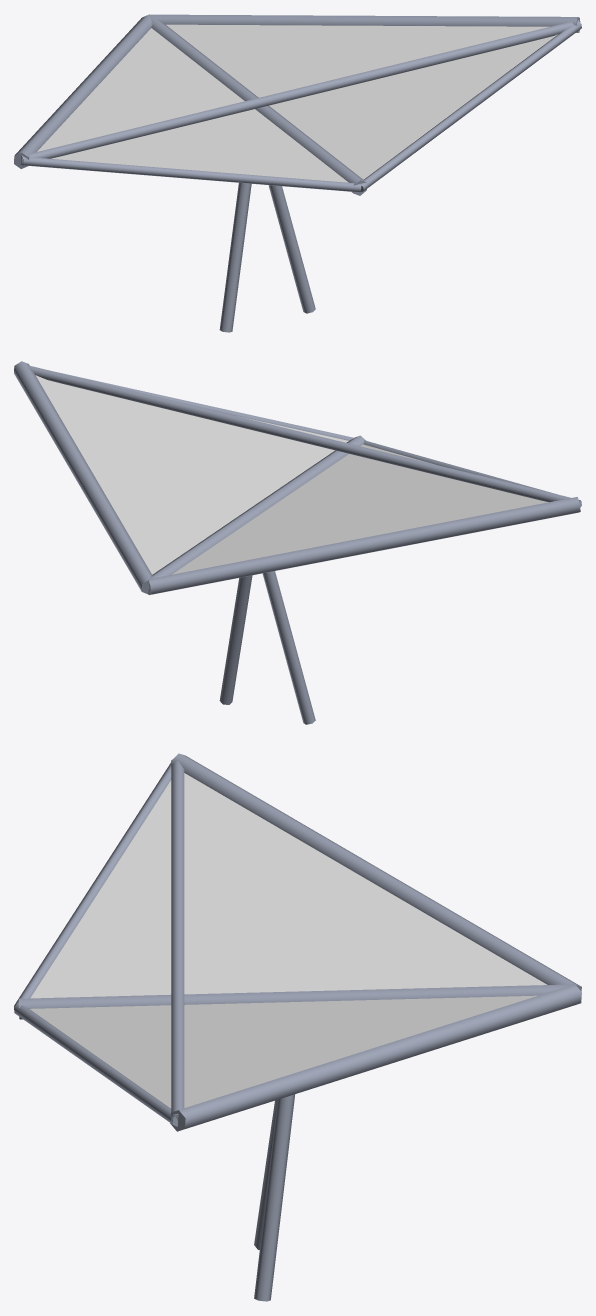
File: part_light.glb
3 views of the same model, one above another, from view 1: azimuth 30°, elevation 25°; view 2: azimuth 150°, elevation 25°; view 3: azimuth 270°, elevation 25° (orthographic). The views are drawn at different scales.
Visible parts, largest first — view 1: part_light; view 2: part_light; view 3: part_light.
Part boxes in pixels (x1=…): part_light: x1=14, y1=14, x2=581, y2=332; part_light: x1=14, y1=361, x2=581, y2=724; part_light: x1=14, y1=753, x2=581, y2=1301.
Bounding box in the file's own units: 1.63 × 0.7157 × 1.07.
